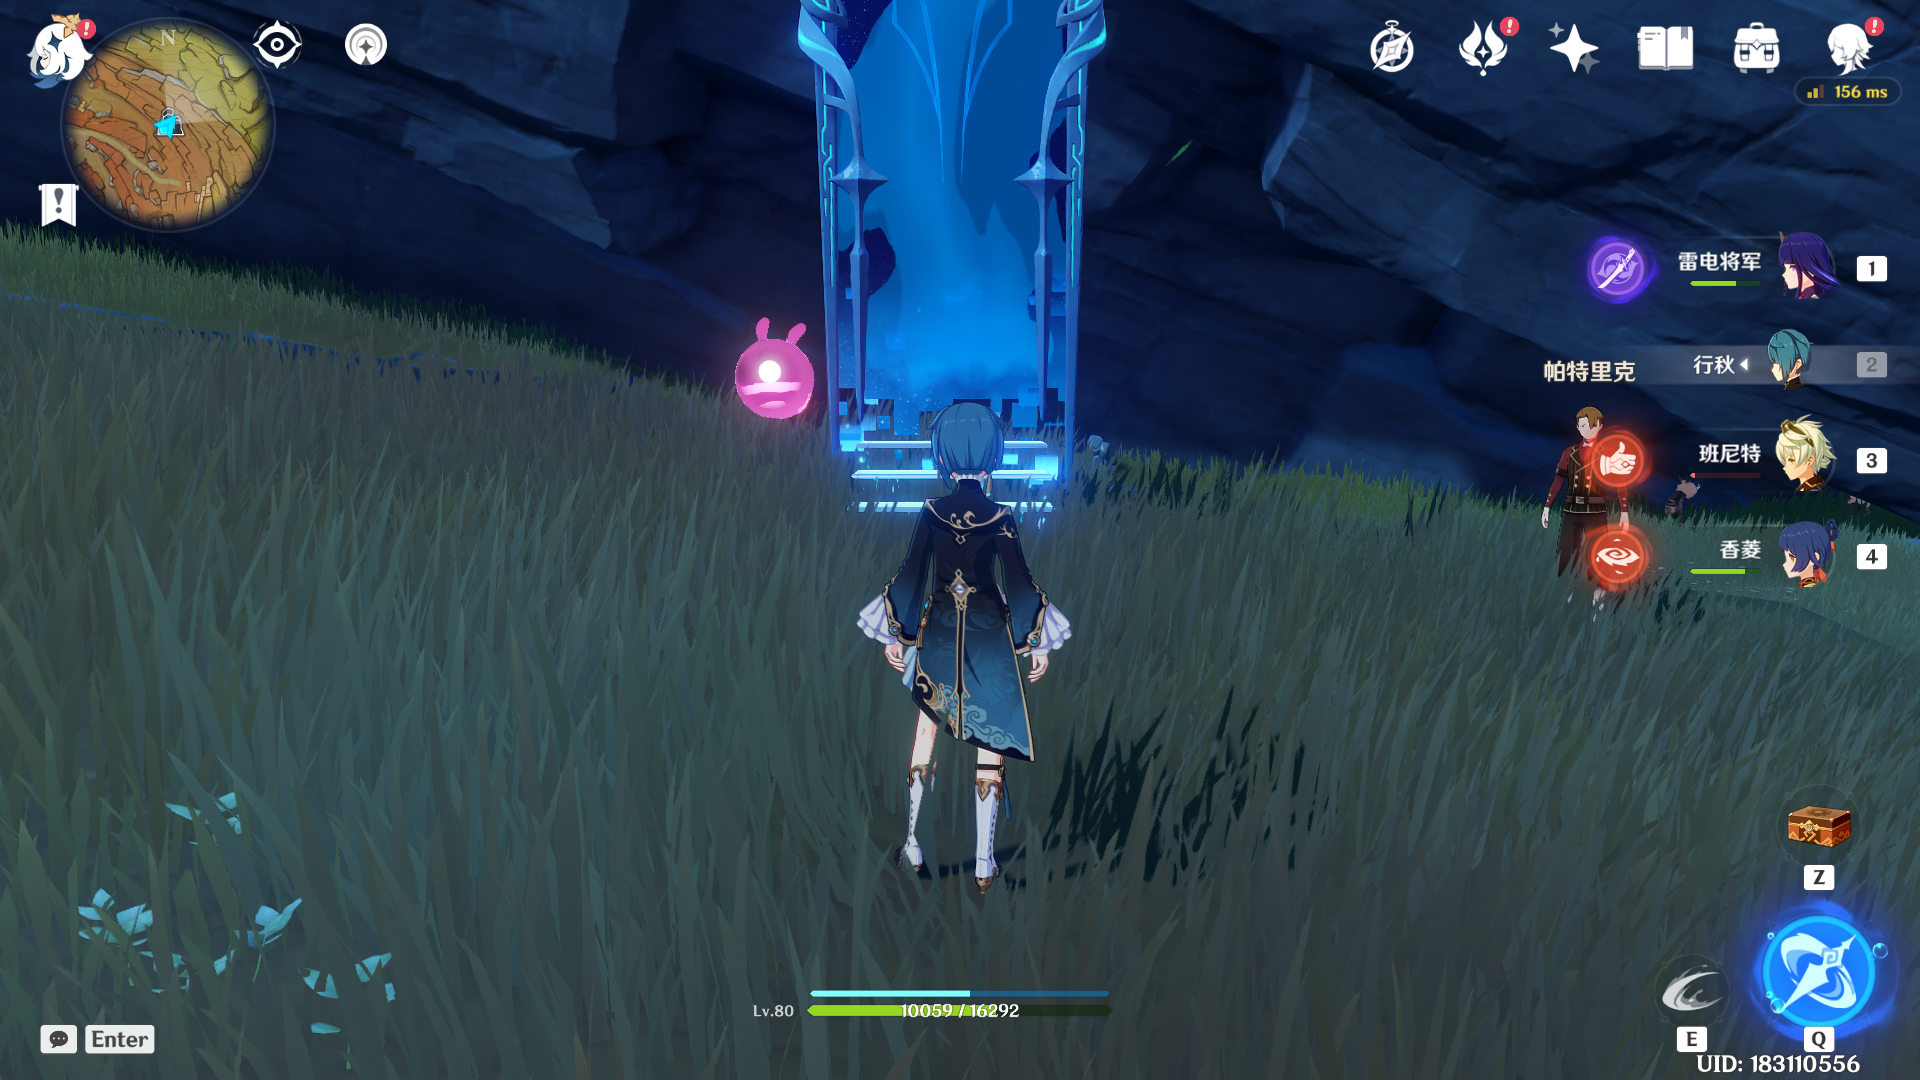character: (829, 382, 1088, 895)
